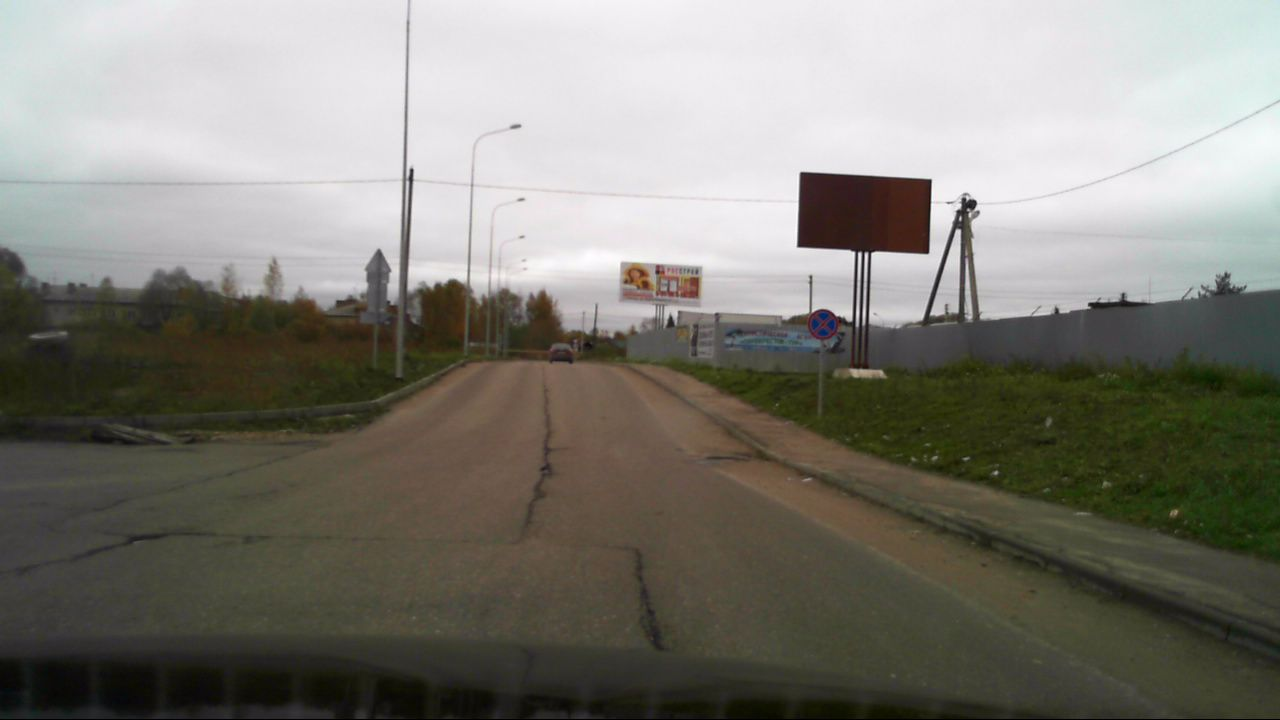No Parking: (807, 308, 839, 340)
